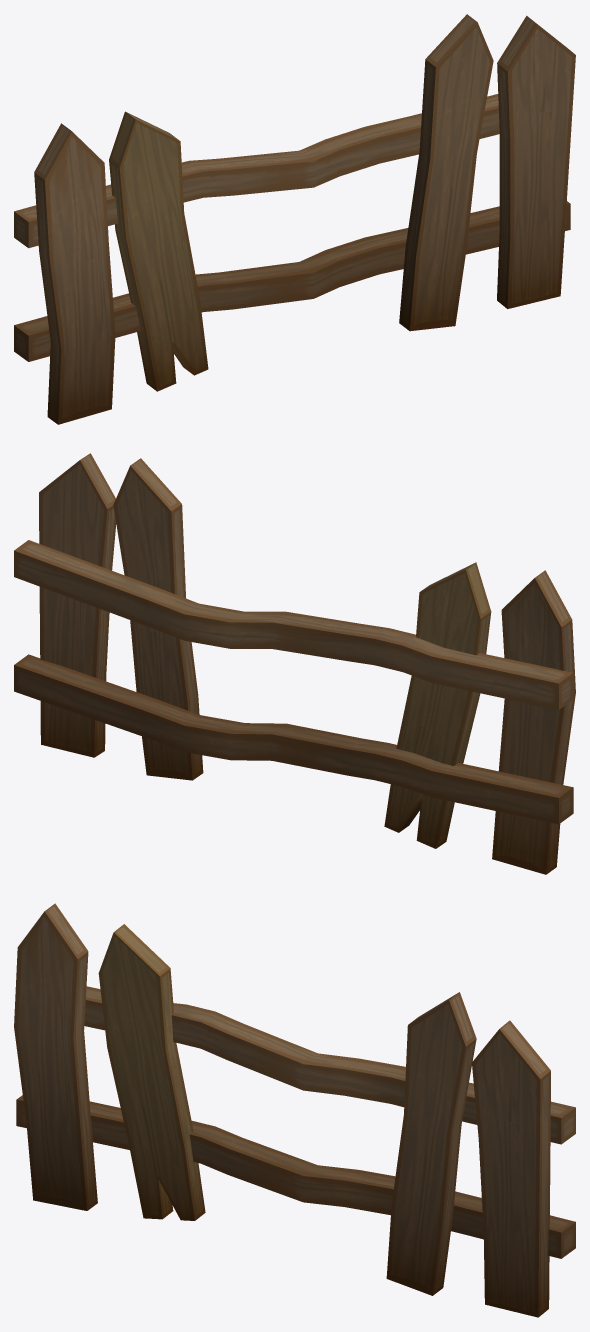
File: SM_wooden_fence_04.glb
The picture shows the model from 3 angles, top to bottom: view 1: azimuth 30°, elevation 25°; view 2: azimuth 150°, elevation 25°; view 3: azimuth 330°, elevation 25°; orthographic projection.
Parts seen in each view (by area): view 1: SM_wooden_fence_04; view 2: SM_wooden_fence_04; view 3: SM_wooden_fence_04.
Boxes of the visible parts, x1,y1,x2,y2 form: SM_wooden_fence_04: (14,14,575,424); SM_wooden_fence_04: (14,453,575,874); SM_wooden_fence_04: (14,903,575,1317).
Size of the model in its own units: 3 by 1.61 by 0.3792.
Materials: 1 (1 with a texture image).
